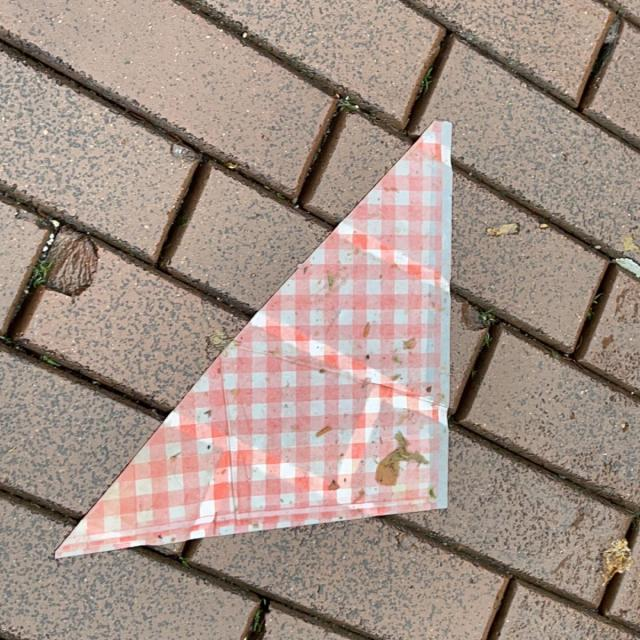Paper: (54, 119, 454, 561)
